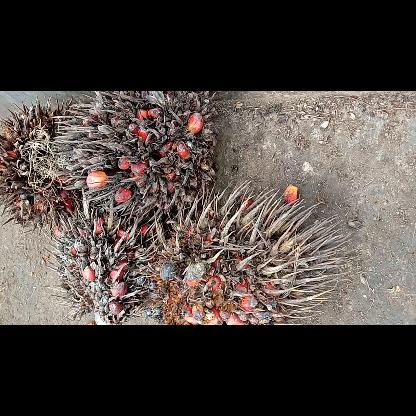Terlalu masak: (140, 174, 362, 324), (52, 91, 226, 225), (43, 192, 160, 324), (0, 90, 96, 238)
